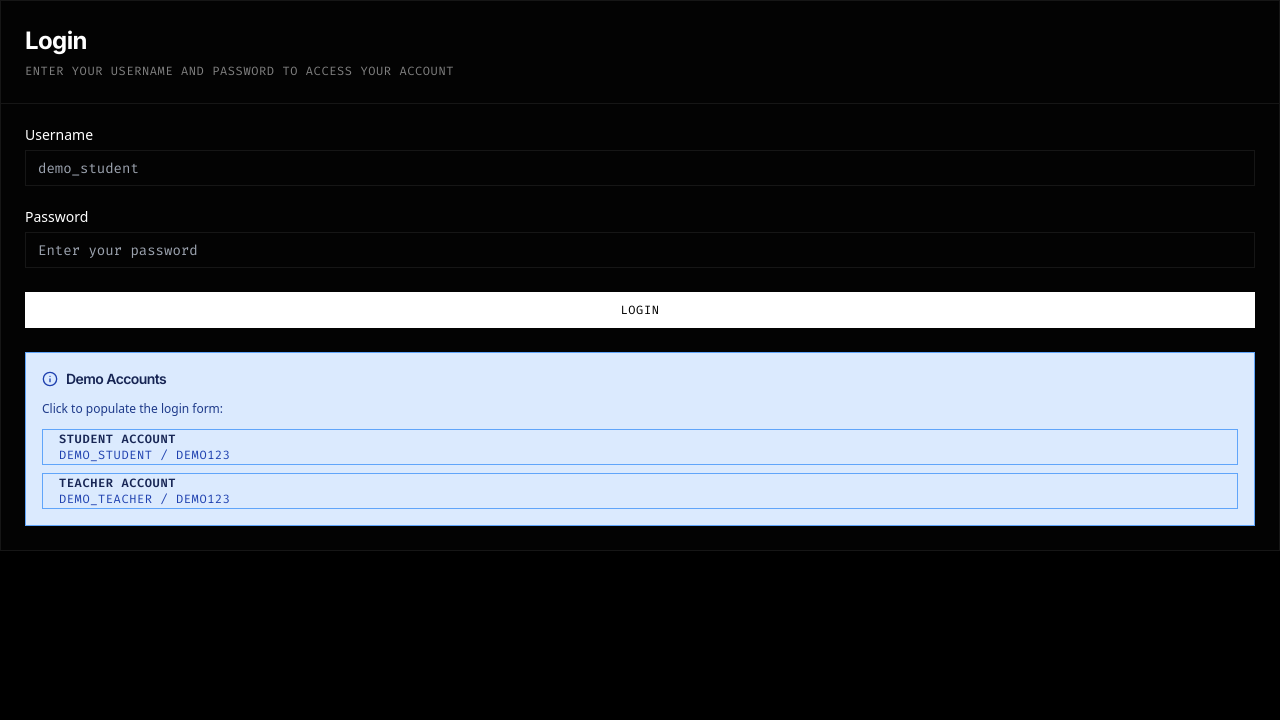
Scenario: LoginForm › populates form when student demo account button is clicked
Step 1. Click the button with aria-label "use demo student credentials" → [118, 439], box [42,429,1238,465]
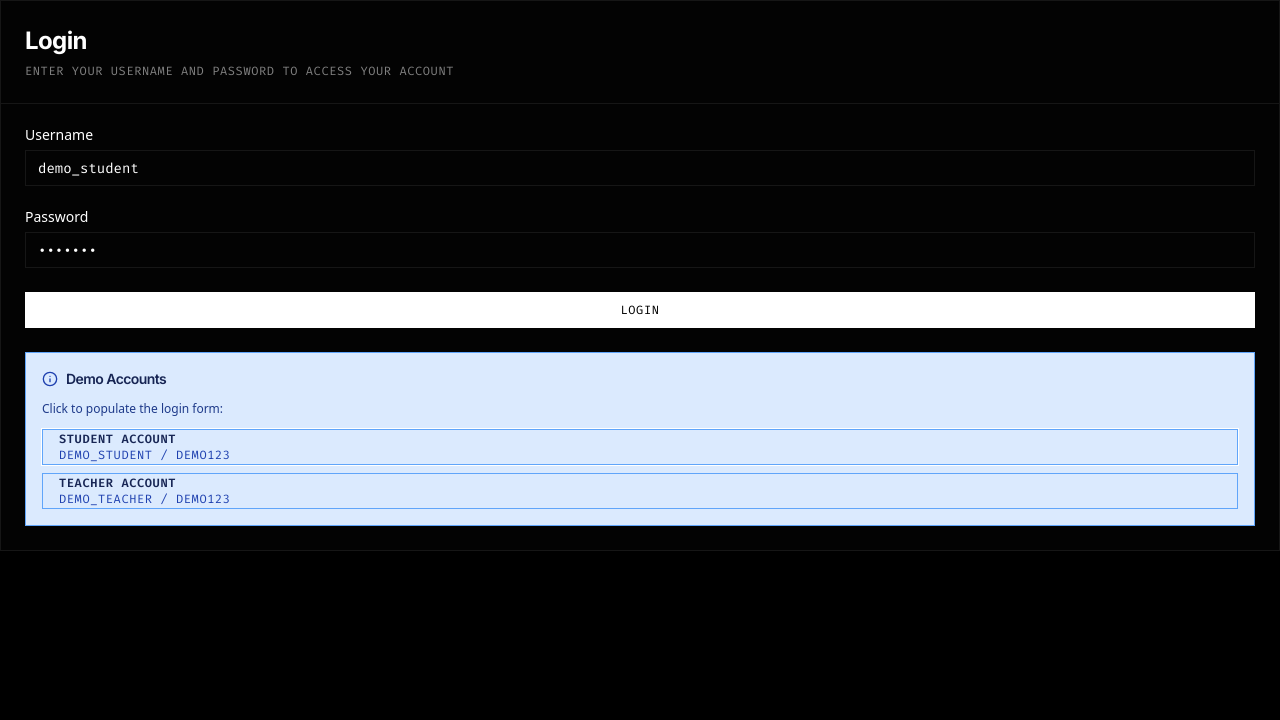
Now the field labelled "Username" holds "demo_student", box [25,150,1255,186]
Now the password field labelled "Password" holds "demo123", box [25,232,1255,268]
